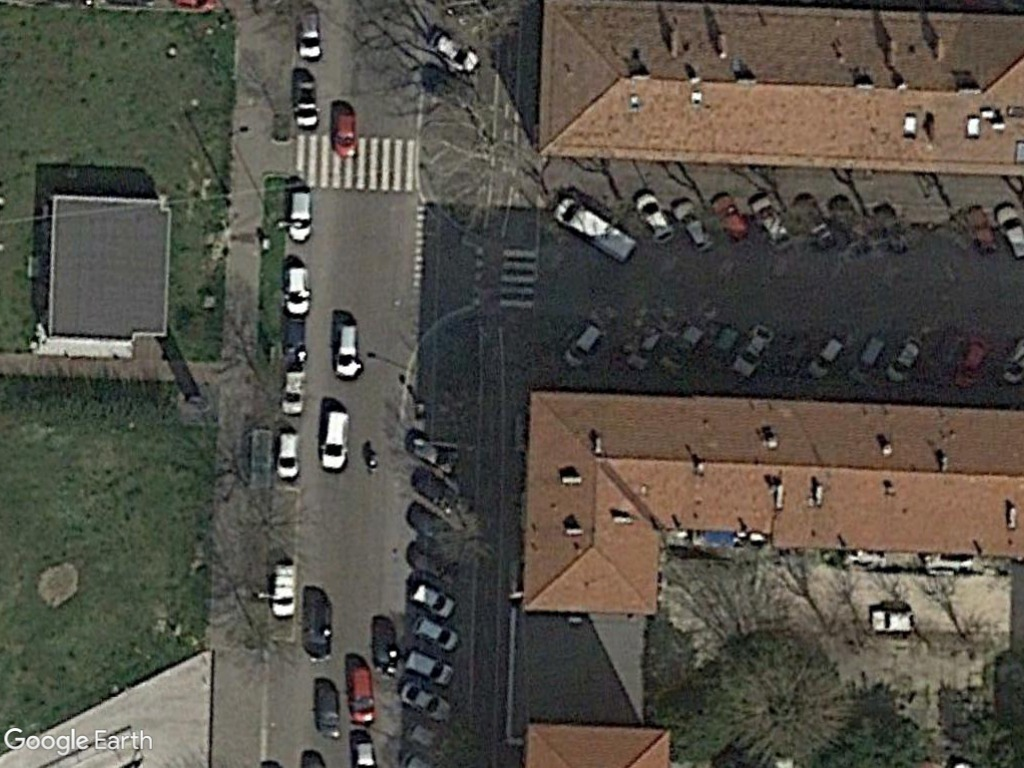car: (744, 193, 798, 254), (395, 677, 459, 727), (423, 25, 484, 77), (343, 660, 382, 730), (399, 644, 454, 692), (404, 577, 460, 619), (412, 608, 462, 655), (288, 70, 324, 133), (866, 601, 919, 642), (310, 680, 345, 742), (328, 103, 363, 163), (292, 4, 327, 63), (269, 560, 301, 623), (283, 186, 316, 245), (280, 262, 314, 319), (272, 426, 306, 483), (280, 360, 310, 421)
van: (551, 190, 638, 262), (631, 186, 675, 251), (317, 404, 354, 475), (330, 316, 368, 383)
